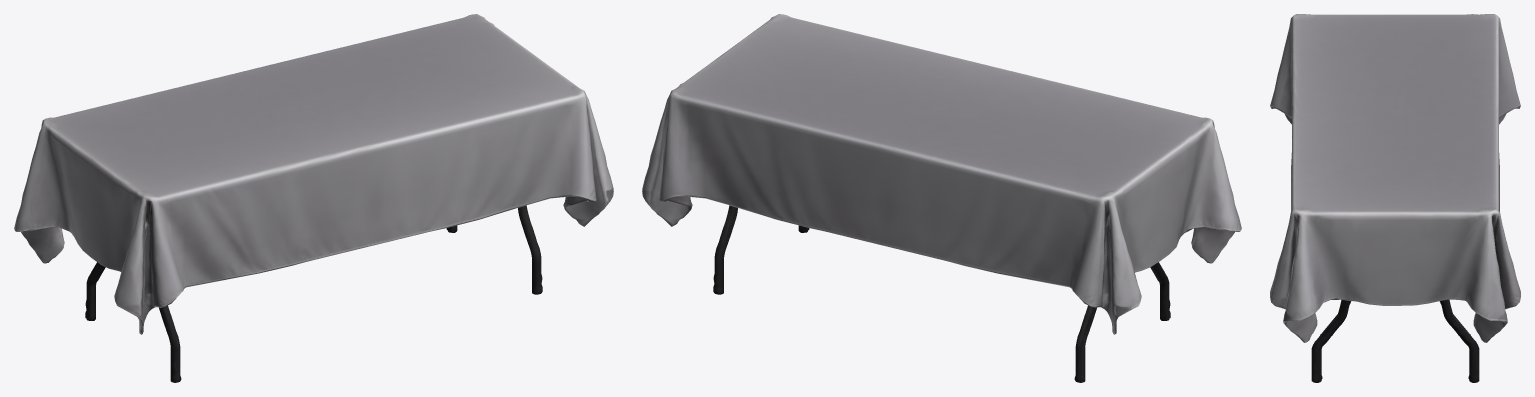
Rendered from Gray_Tablecloth_on_Fo_0630202314_texture.glb.
3 renders of one model, left to right at view 1: azimuth 30°, elevation 25°; view 2: azimuth 150°, elevation 25°; view 3: azimuth 270°, elevation 25°, orthographic. The views are drawn at different scales.
Visible parts, largest first — view 1: Mesh_0.002; view 2: Mesh_0.002; view 3: Mesh_0.002.
Part boxes in pixels (left/top/right/bottom): Mesh_0.002: left=14, top=14, right=613, bottom=382; Mesh_0.002: left=642, top=14, right=1241, bottom=382; Mesh_0.002: left=1270, top=14, right=1520, bottom=382.
Size of the model in its own units: 1.97 by 0.762 by 0.9282.
1 material, 1 textured.
